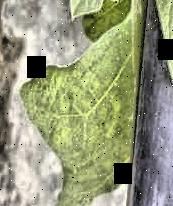HEALTHY: (0, 1, 173, 206)
